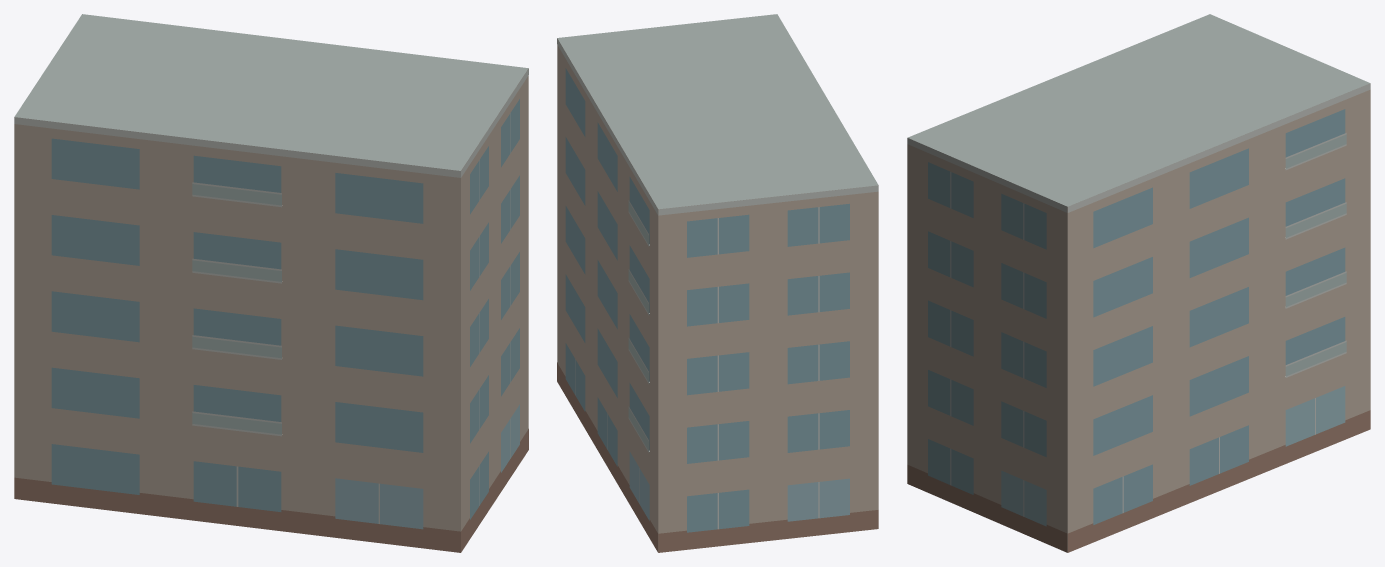
File: survey-upis-32881752.glb
3 renders of one model, left to right at view 1: azimuth 30°, elevation 25°; view 2: azimuth 150°, elevation 25°; view 3: azimuth 270°, elevation 25°, orthographic. The views are drawn at different scales.
Visible parts, largest first — view 1: survey-upis-32881752.tmp; view 2: survey-upis-32881752.tmp; view 3: survey-upis-32881752.tmp.
Boxes of the visible parts, left/top/right/bottom form: survey-upis-32881752.tmp: left=14, top=14, right=528, bottom=552; survey-upis-32881752.tmp: left=557, top=14, right=878, bottom=552; survey-upis-32881752.tmp: left=907, top=14, right=1370, bottom=552.
Bounding box in the file's own units: 16.02 × 13.4 × 16.26.
